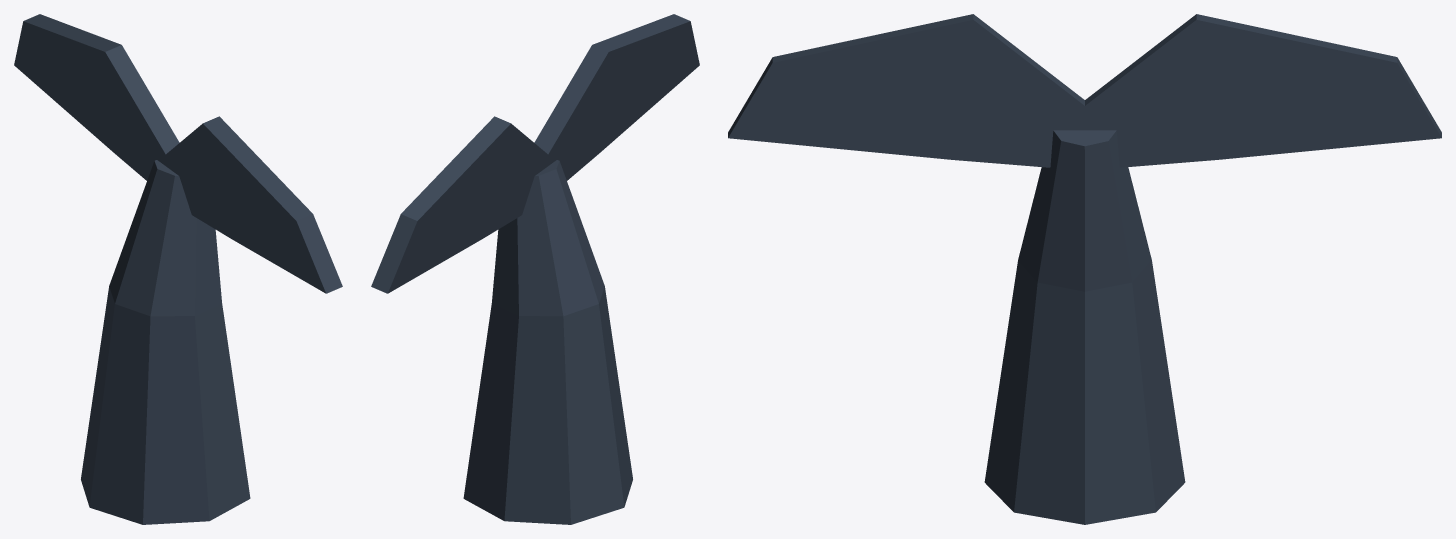
The model's file is whale_tail.glb.
3 views of the same model, side by side, from view 1: azimuth 30°, elevation 25°; view 2: azimuth 150°, elevation 25°; view 3: azimuth 270°, elevation 25° (orthographic). The views are drawn at different scales.
Parts seen in each view (by area): view 1: whale_tail; view 2: whale_tail; view 3: whale_tail.
Part boxes in pixels (x1,y1,x2,y2): whale_tail: (14, 14, 342, 524); whale_tail: (371, 14, 699, 524); whale_tail: (728, 14, 1441, 524).
Size of the model in its own units: 0.9 by 2.3 by 3.2.
